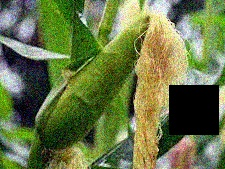corn_plant: (44, 7, 181, 147)
